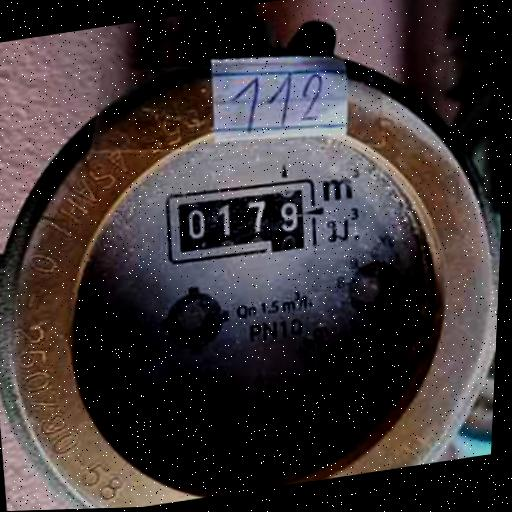0: (175, 199, 220, 253)
1: (210, 195, 249, 248)
7: (238, 193, 277, 246)
9: (264, 188, 309, 254)
border_water_meter_number: (160, 173, 323, 271)
